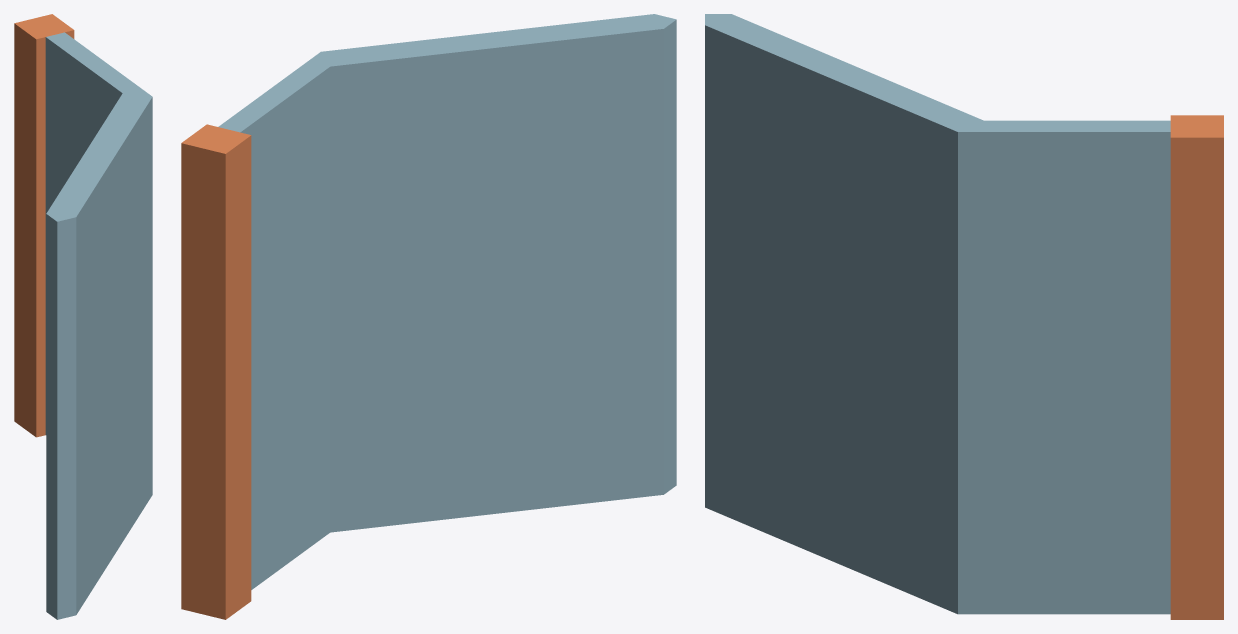
Rendered from wallCornerDiagonalHalf.fbx.
The picture shows the model from 3 angles, left to right: view 1: azimuth 30°, elevation 25°; view 2: azimuth 150°, elevation 25°; view 3: azimuth 270°, elevation 25°; orthographic projection. The views are drawn at different scales.
Parts seen in each view (by area): view 1: wallCornerDiagonalHalf; view 2: wallCornerDiagonalHalf; view 3: wallCornerDiagonalHalf.
Part boxes in pixels (x1,y1,x2,y2): wallCornerDiagonalHalf: [14, 14, 152, 619]; wallCornerDiagonalHalf: [181, 14, 676, 619]; wallCornerDiagonalHalf: [705, 14, 1223, 619].
Size of the model in its own units: 5.5 by 10 by 9.75.
